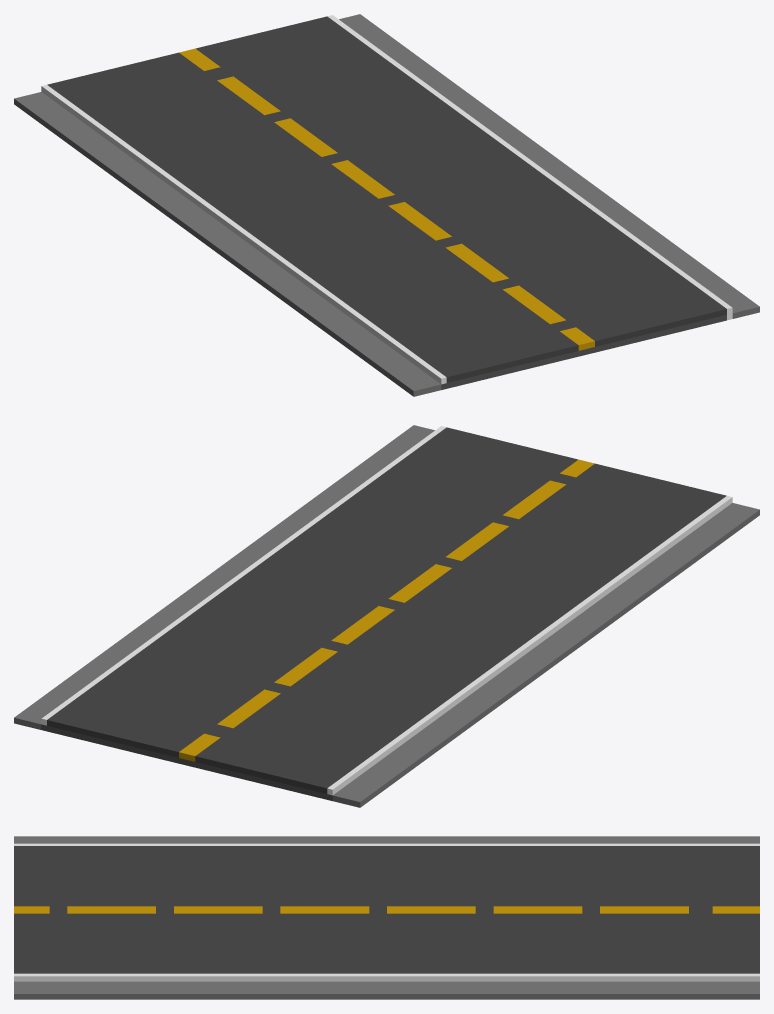
File: road.glb
3 views of the same model, one above another, from view 1: azimuth 30°, elevation 25°; view 2: azimuth 150°, elevation 25°; view 3: azimuth 270°, elevation 25° (orthographic). The views are drawn at different scales.
Parts seen in each view (by area): view 1: road; view 2: road; view 3: road.
Boxes of the visible parts, <box> form: road: <box>14,14,759,396</box>; road: <box>14,425,759,807</box>; road: <box>14,836,759,999</box>.
Bounding box in the file's own units: 63 × 2 × 126.
Materials: 1 (1 with a texture image).
